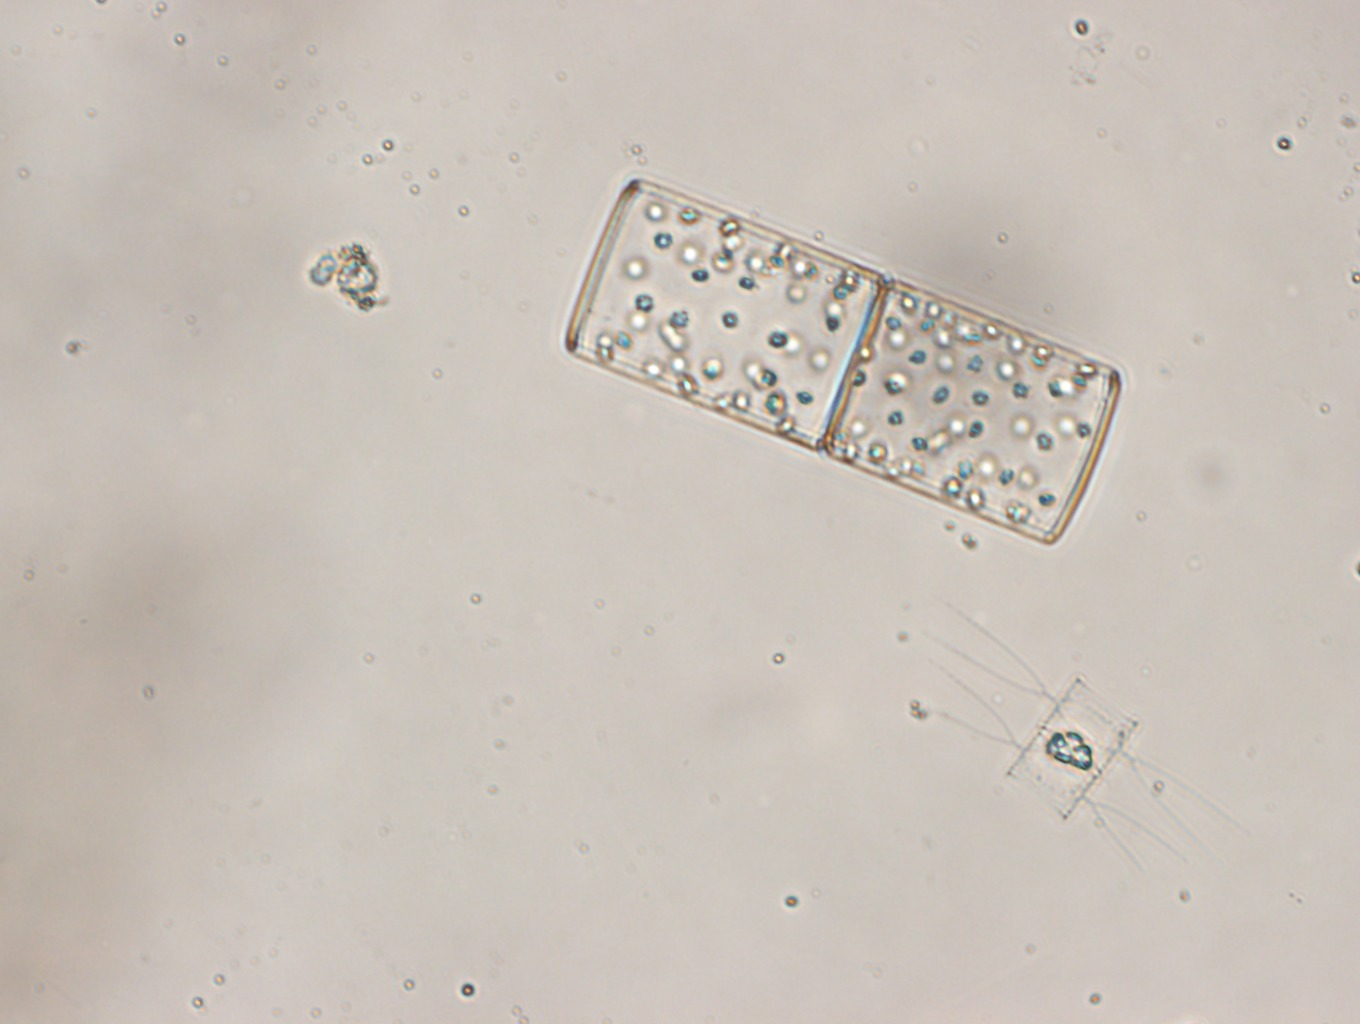chaetoceros: (910, 592, 1239, 872)
guinardia flaccida: (563, 175, 1123, 547)
